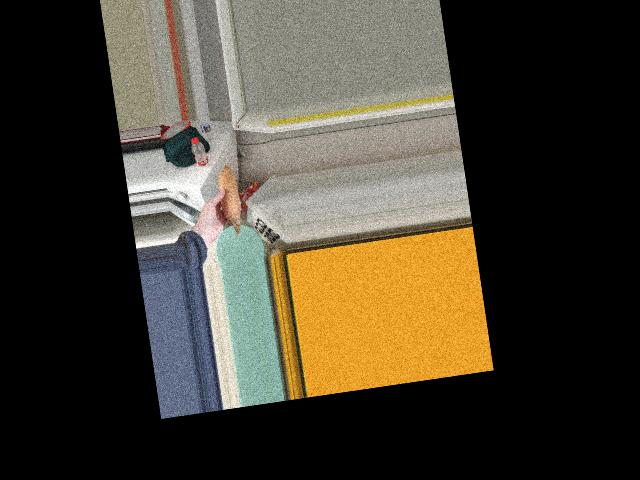sweet_potato: (214, 172, 243, 231)
